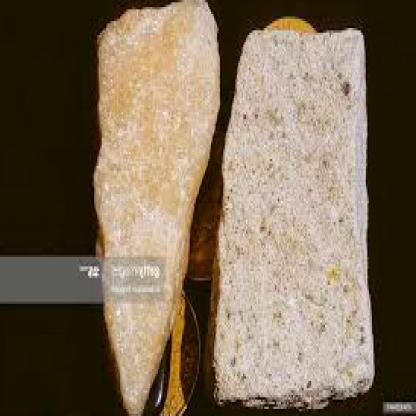Metamorphic_Quartize: (212, 19, 380, 409), (80, 0, 224, 412)
